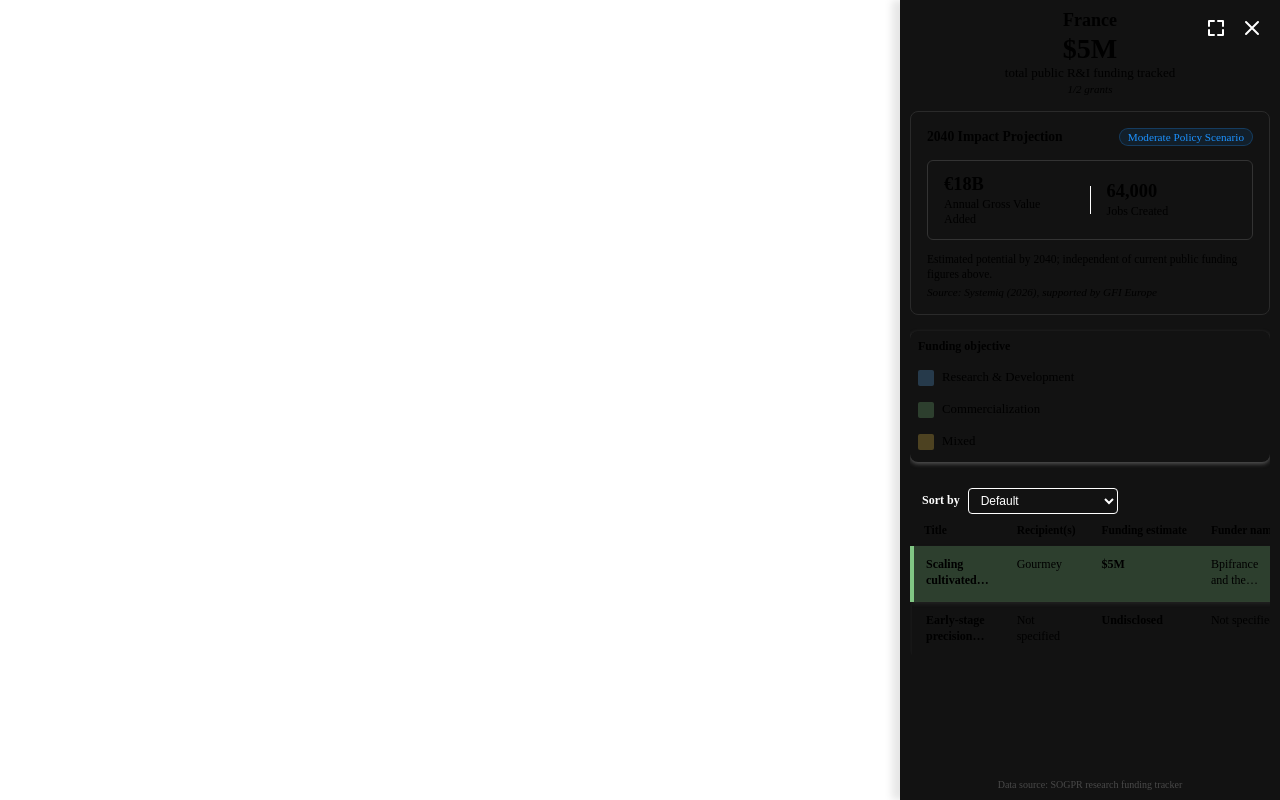
Scenario: CountryFundingPanel › expand/collapse › expands the panel when the expand button is clicked
This screenshot has width=1280, height=800.
Click the button with class "expand-button": (1216, 28) x1=1200 y1=12 x2=1232 y2=44
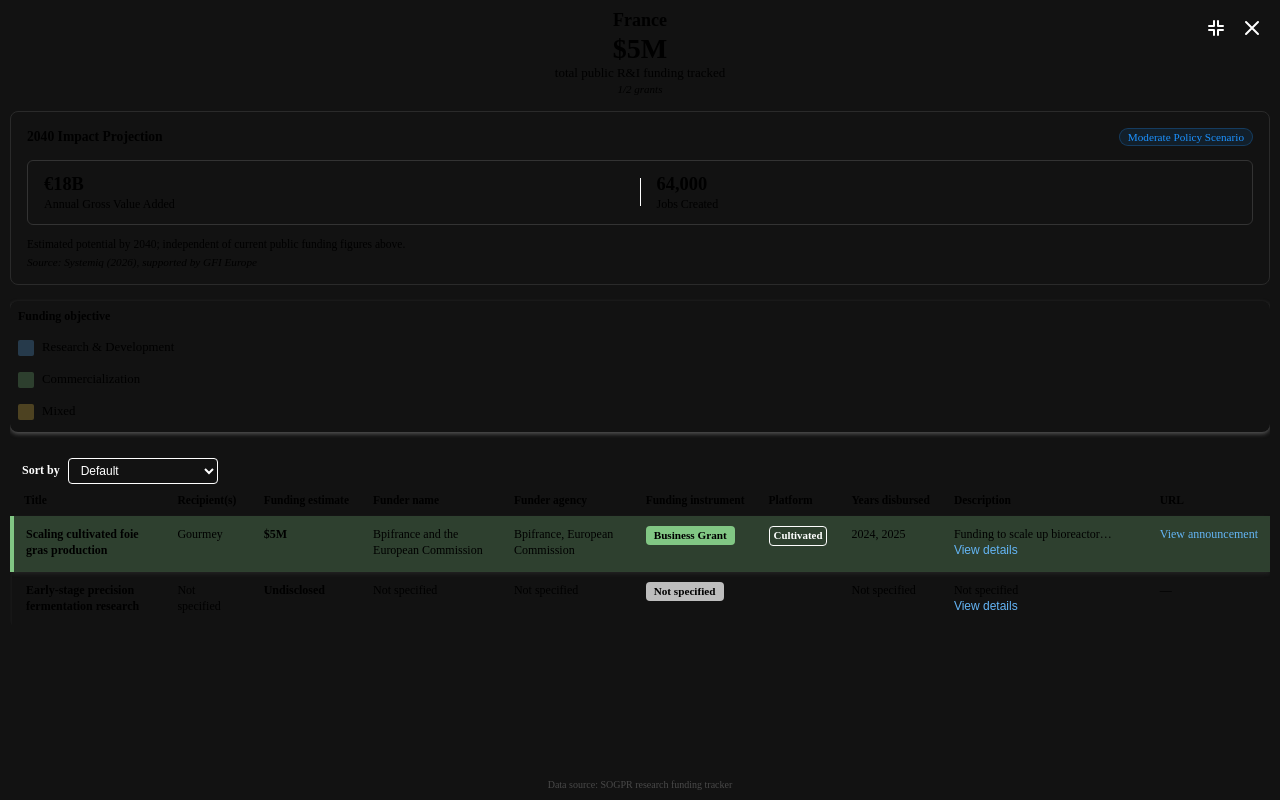
Expected: the button with class "expand-button" is expanded, x1=1200 y1=12 x2=1232 y2=44
